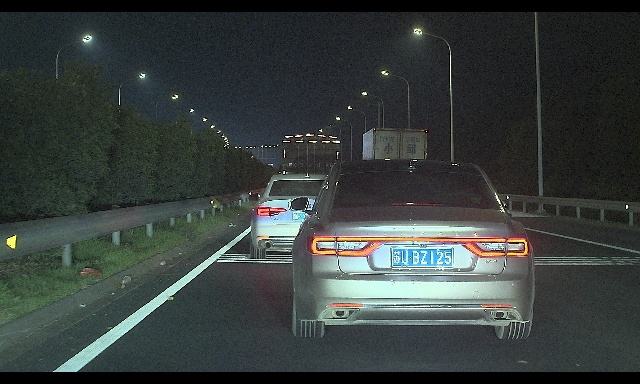car: (287, 158, 536, 339), (248, 174, 360, 259)
truck: (361, 128, 427, 201), (279, 133, 340, 200)
